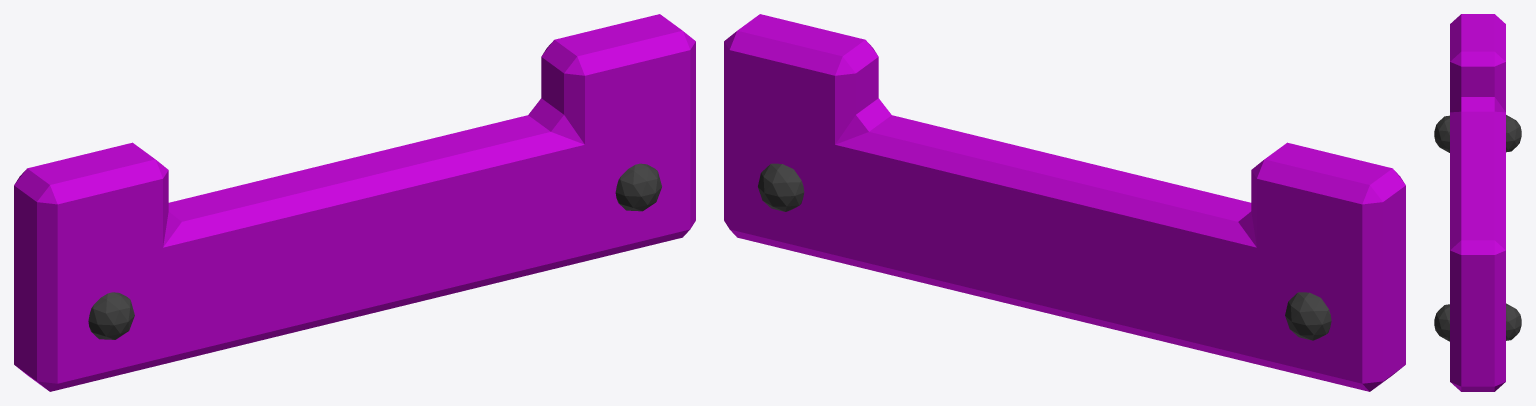
The model's file is BarBracketB.fbx.
The picture shows the model from 3 angles, left to right: view 1: azimuth 30°, elevation 25°; view 2: azimuth 150°, elevation 25°; view 3: azimuth 270°, elevation 25°; orthographic projection. The views are drawn at different scales.
Visible parts, largest first — view 1: BarB; view 2: BarB; view 3: BarB.
Part boxes in pixels (bbox=[...]): BarB: bbox=[14, 14, 695, 391]; BarB: bbox=[724, 14, 1405, 391]; BarB: bbox=[1434, 14, 1521, 391].
Bounding box in the file's own units: 1000 × 300 × 157.
